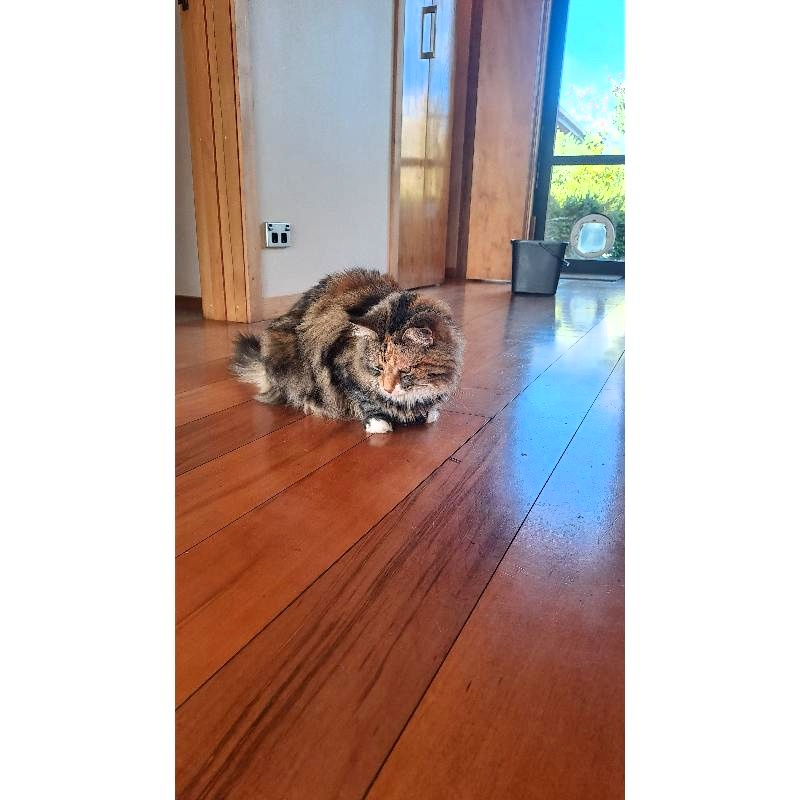red: (232, 265, 464, 435)
